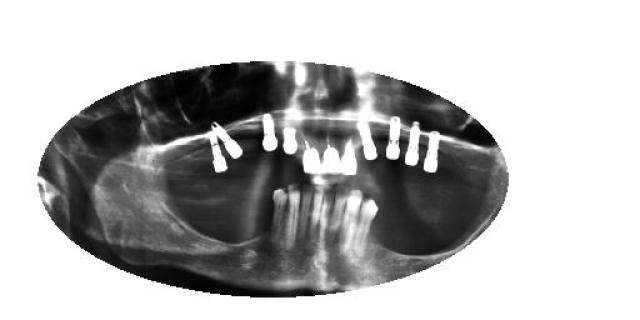Fillings: (342, 136, 358, 178)
Implant: (299, 124, 325, 176), (211, 120, 245, 159), (422, 124, 442, 178), (359, 116, 380, 164), (385, 114, 405, 162), (404, 114, 421, 168), (322, 125, 340, 175), (208, 134, 228, 174), (264, 111, 280, 154), (282, 126, 298, 156)
